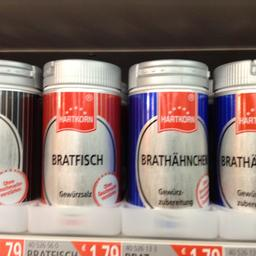spices: (126, 56, 209, 209), (40, 57, 119, 206), (212, 58, 254, 208)
